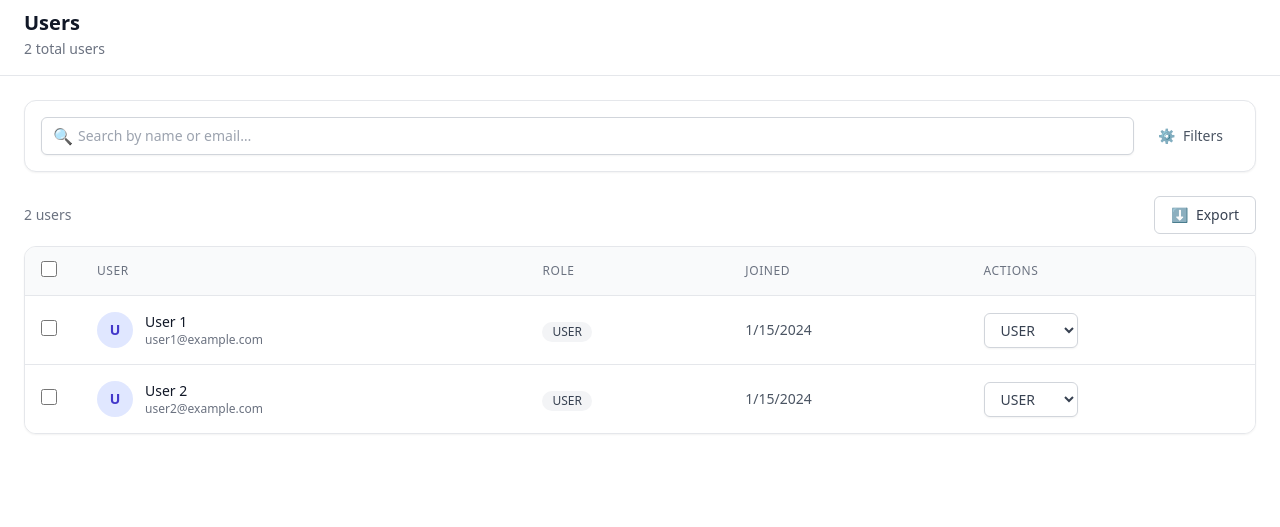
Scenario: AdminUsersPage › selects a user when checkbox is clicked
This screenshot has width=1280, height=527.
Expected: the table is shown, [25,247,1255,433]
checkboxes[0] is select-all, checkboxes[1] is first user
Click the checkbox in the row of "user1@example.com" at (49, 328), box [41,320,57,336]
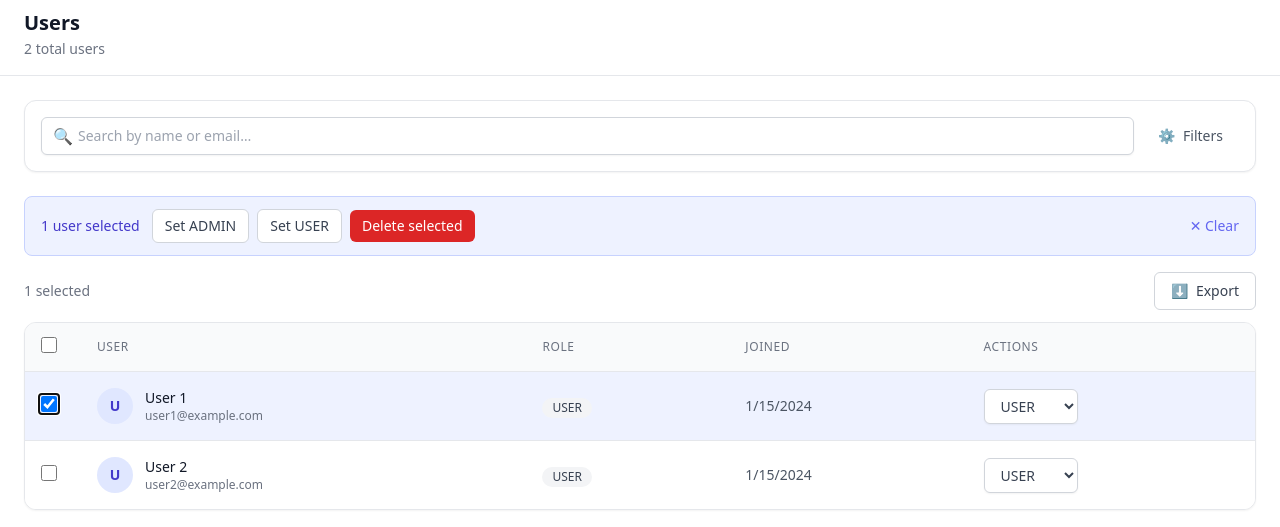
Result: the text "1 selected" is shown at [24,281,90,301]
Result: the text "1 user selected" is shown at [41,216,140,236]
